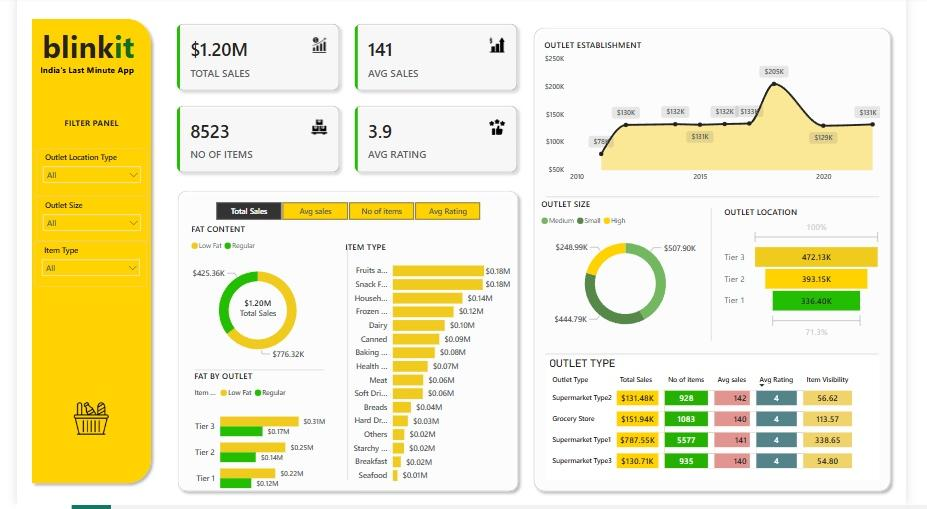

The page's visual inventory and layout, read from the dashboard file:
{"tool":"powerbi","page":{"name":"Page 1","canvas":[1400,800],"ordinal":0},"visuals":[{"type":"shape","box":[14.7,25.7,205.8,749.6],"z":0},{"type":"textbox","box":[31.2,101,170.9,34.9],"z":1000},{"type":"textbox","box":[34.9,38.6,165.4,80.8],"z":2000},{"type":"cardVisual","fields":{"Data":["BlinkIT Grocery Data.Total Sales","BlinkIT Grocery Data.Avg sales","BlinkIT Grocery Data.No of items","BlinkIT Grocery Data.Avg Rating"]},"box":[234.6,25.9,570.7,269.7],"z":3000},{"type":"shape","box":[243.8,295.5,554.1,491.3],"z":4000},{"type":"slicer","fields":{"Values":["Metrics.Metrics"]},"box":[288.1,315.8,465.4,40.6],"z":5000},{"type":"donutChart","title":"FAT CONTENT","fields":{"Y":["BlinkIT Grocery Data.Total Sales"],"Category":["BlinkIT Grocery Data.Item Fat Content"]},"box":[269.7,356.5,219.8,230.9],"z":6000},{"type":"cardVisual","fields":{"Data":["BlinkIT Grocery Data.Total Sales"]},"box":[314,435.9,133,105.3],"z":7000},{"type":"clusteredBarChart","title":"FAT BY OUTLET","fields":{"Y":["BlinkIT Grocery Data.Total Sales"],"Series":["BlinkIT Grocery Data.Item Fat Content"],"Category":["BlinkIT Grocery Data.Outlet Location Type"]},"box":[273.4,587.3,216.1,208.7],"z":8000},{"type":"shape","box":[280.7,567,203.2,40.6],"z":9000},{"type":"shape","box":[419.3,395.3,203.2,365.7],"z":10000},{"type":"barChart","title":"ITEM TYPE","fields":{"Y":["BlinkIT Grocery Data.Total Sales"],"Category":["BlinkIT Grocery Data.Item Type"]},"box":[511.6,384.2,269.7,391.6],"z":11000},{"type":"shape","box":[805.3,38.8,579.9,748],"z":12000},{"type":"lineChart","title":"OUTLET ESTABLISHMENT","fields":{"Category":["BlinkIT Grocery Data.Outlet Establishment Year"],"Y":["BlinkIT Grocery Data.Total Sales"]},"box":[825.6,66.5,539.3,234.6],"z":13000},{"type":"shape","box":[833,280.7,524.5,68.3],"z":14000},{"type":"donutChart","title":"OUTLET SIZE","fields":{"Y":["BlinkIT Grocery Data.Total Sales"],"Category":["BlinkIT Grocery Data.Outlet Size"]},"box":[820.1,315.8,275.2,225.3],"z":15000},{"type":"shape","box":[1078.6,332.5,29.6,208.7],"z":16000},{"type":"funnel","title":"OUTLET LOCATION","fields":{"Category":["BlinkIT Grocery Data.Outlet Location Type"],"Y":["Sum(BlinkIT Grocery Data.Sales)"]},"box":[1108.2,328.8,256.7,212.4],"z":17000},{"type":"shape","box":[831.1,546.7,524.5,31.4],"z":18000},{"type":"pivotTable","title":"OUTLET TYPE","fields":{"Rows":["BlinkIT Grocery Data.Outlet Type"],"Values":["BlinkIT Grocery Data.Total Sales","BlinkIT Grocery Data.No of items","BlinkIT Grocery Data.Avg sales","BlinkIT Grocery Data.Avg Rating","Sum(BlinkIT Grocery Data.Item Visibility)"]},"box":[833,567,524.5,193.9],"z":19000},{"type":"slicer","fields":{"Values":["BlinkIT Grocery Data.Outlet Size"]},"box":[29.9,313.4,176.4,70.9],"z":20000},{"type":"slicer","fields":{"Values":["BlinkIT Grocery Data.Item Type"]},"box":[28.3,384.3,176.4,72.4],"z":21000},{"type":"slicer","fields":{"Values":["BlinkIT Grocery Data.Outlet Location Type"]},"box":[29.9,237.8,176.4,75.6],"z":22000},{"type":"textbox","box":[60.2,183.5,113.3,34.4],"z":23000},{"type":"image","box":[70.9,623.6,92.9,80.3],"z":24000}]}

Visuals, with their boxes on the page's 1400x800 design canvas (x1, y1, x2, y2). These are canvas units, not pixel positions in the 927x509 screenshot, which may show the page scaled, cropped or inside an application window:
shape: BBox(15, 26, 220, 775)
textbox: BBox(31, 101, 202, 136)
textbox: BBox(35, 39, 200, 119)
cardVisual - BlinkIT Grocery Data.Total Sales x BlinkIT Grocery Data.Avg sales: BBox(235, 26, 805, 296)
shape: BBox(244, 296, 798, 787)
slicer - Metrics.Metrics: BBox(288, 316, 754, 356)
"FAT CONTENT" donutChart: BBox(270, 356, 490, 587)
cardVisual - BlinkIT Grocery Data.Total Sales: BBox(314, 436, 447, 541)
"FAT BY OUTLET" clusteredBarChart: BBox(273, 587, 490, 796)
shape: BBox(281, 567, 484, 608)
shape: BBox(419, 395, 622, 761)
"ITEM TYPE" barChart: BBox(512, 384, 781, 776)
shape: BBox(805, 39, 1385, 787)
"OUTLET ESTABLISHMENT" lineChart: BBox(826, 66, 1365, 301)
shape: BBox(833, 281, 1358, 349)
"OUTLET SIZE" donutChart: BBox(820, 316, 1095, 541)
shape: BBox(1079, 332, 1108, 541)
"OUTLET LOCATION" funnel: BBox(1108, 329, 1365, 541)
shape: BBox(831, 547, 1356, 578)
"OUTLET TYPE" pivotTable: BBox(833, 567, 1358, 761)
slicer - BlinkIT Grocery Data.Outlet Size: BBox(30, 313, 206, 384)
slicer - BlinkIT Grocery Data.Item Type: BBox(28, 384, 205, 457)
slicer - BlinkIT Grocery Data.Outlet Location Type: BBox(30, 238, 206, 313)
textbox: BBox(60, 184, 174, 218)
image: BBox(71, 624, 164, 704)
